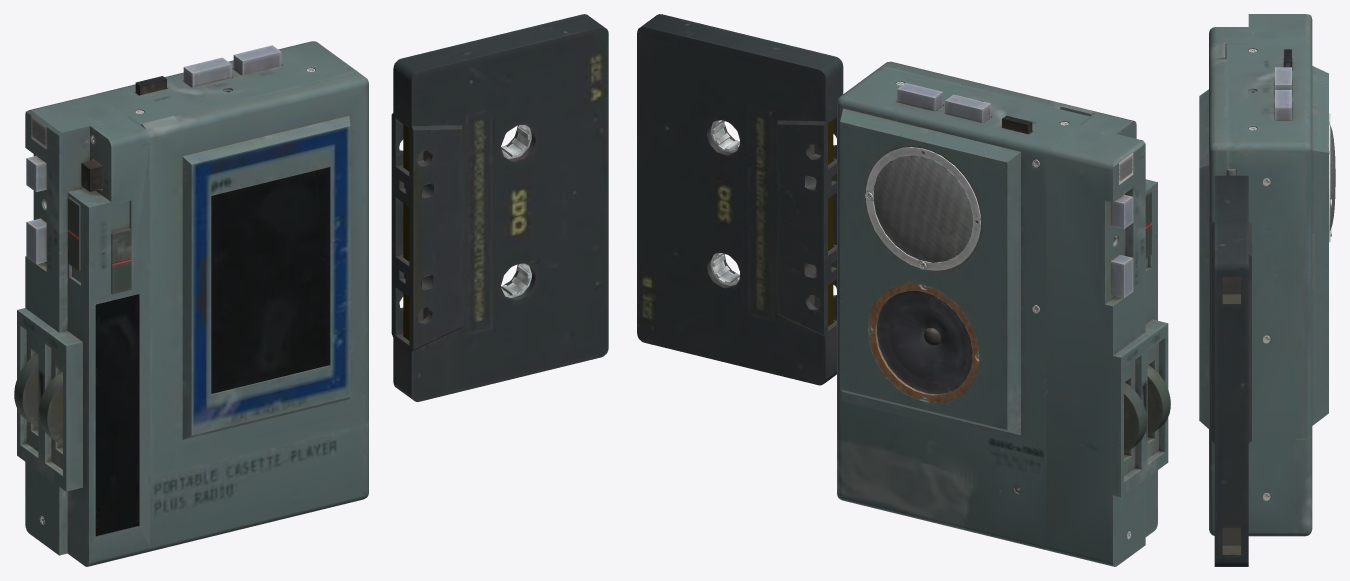
File: portable_cassette_player.glb
3 views of the same model, side by side, from view 1: azimuth 30°, elevation 25°; view 2: azimuth 150°, elevation 25°; view 3: azimuth 270°, elevation 25° (orthographic). The views are drawn at different scales.
Visible parts, largest first — view 1: portable_cassette_player, portable_cassette_player_lid, portable_cassette_player_casette; view 2: portable_cassette_player, portable_cassette_player_casette, portable_cassette_player_lid; view 3: portable_cassette_player, portable_cassette_player_casette, portable_cassette_player_lid.
Part boxes in pixels (box(x1,y1,x2,y2)): portable_cassette_player: box(14, 41, 368, 566); portable_cassette_player_lid: box(141, 72, 368, 476); portable_cassette_player_casette: box(391, 14, 608, 401); portable_cassette_player: box(837, 66, 1170, 566); portable_cassette_player_casette: box(637, 14, 843, 385); portable_cassette_player_lid: box(882, 61, 1096, 116); portable_cassette_player: box(1209, 14, 1335, 536); portable_cassette_player_casette: box(1211, 175, 1251, 566); portable_cassette_player_lid: box(1199, 42, 1235, 466).
Size of the model in its own units: 0.1723 by 0.1303 by 0.0397.
Materials: 2 (2 with a texture image).
